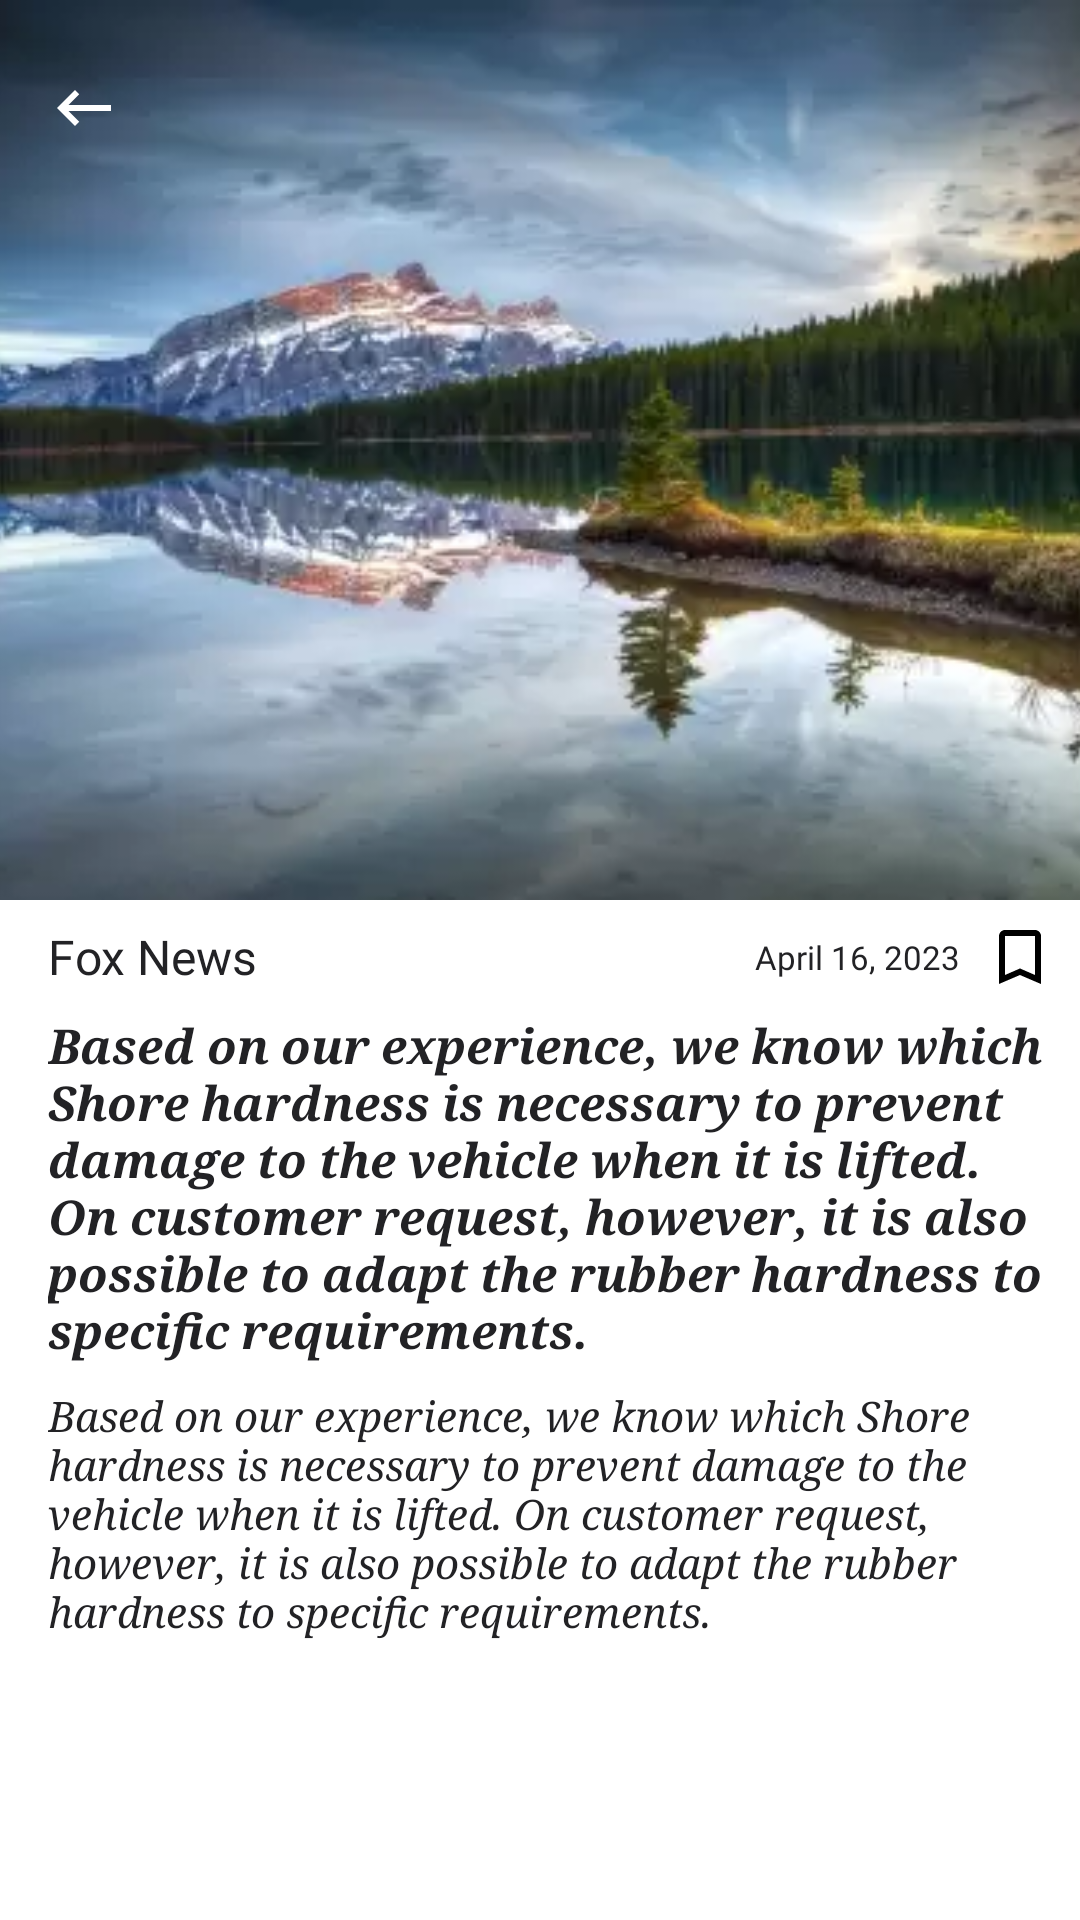

Screen size 1080*1920. Icon name, then its center in pixels as [x,y]:
back: [84,108]
bookmark: [1020,957]
